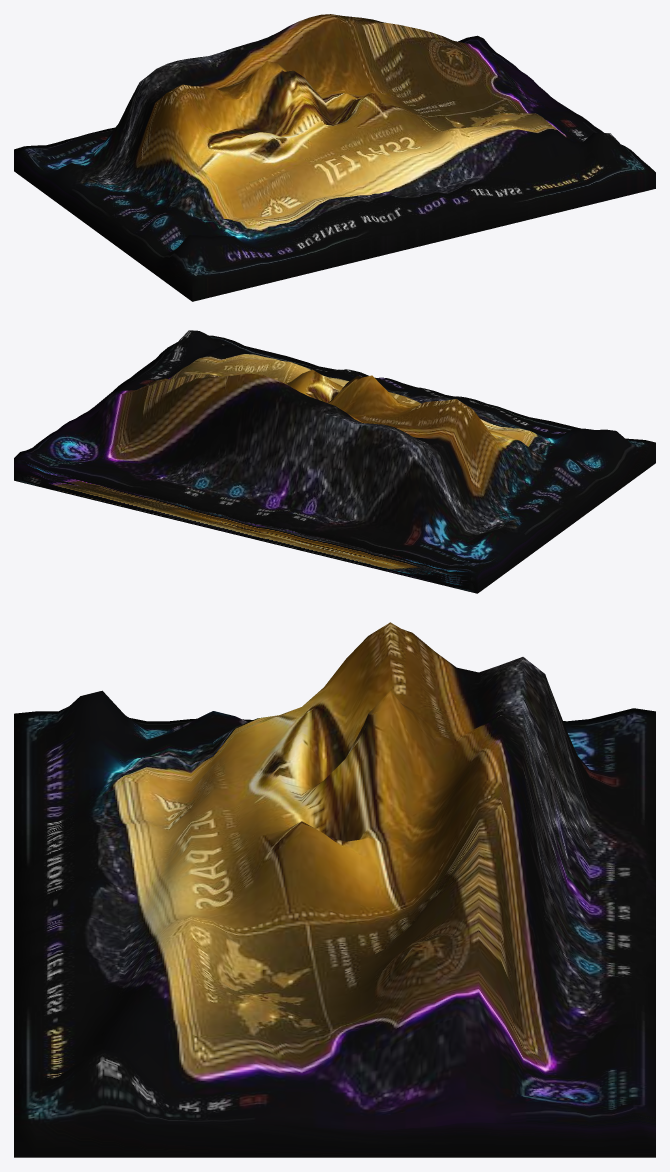
File: CAREER_08_Tool_07_Jet_Pass.glb
3 renders of one model, top to bottom at view 1: azimuth 30°, elevation 25°; view 2: azimuth 150°, elevation 25°; view 3: azimuth 270°, elevation 25°, orthographic. The views are drawn at different scales.
Parts seen in each view (by area): view 1: CAREER_08_Tool_07_Jet_Pass; view 2: CAREER_08_Tool_07_Jet_Pass; view 3: CAREER_08_Tool_07_Jet_Pass.
Boxes of the visible parts, <box> form: CAREER_08_Tool_07_Jet_Pass: <box>14,14,655,301</box>; CAREER_08_Tool_07_Jet_Pass: <box>14,330,655,593</box>; CAREER_08_Tool_07_Jet_Pass: <box>14,622,655,1157</box>.
Bounding box in the file's own units: 2 × 0.51 × 1.33.
Materials: 1 (1 with a texture image).
